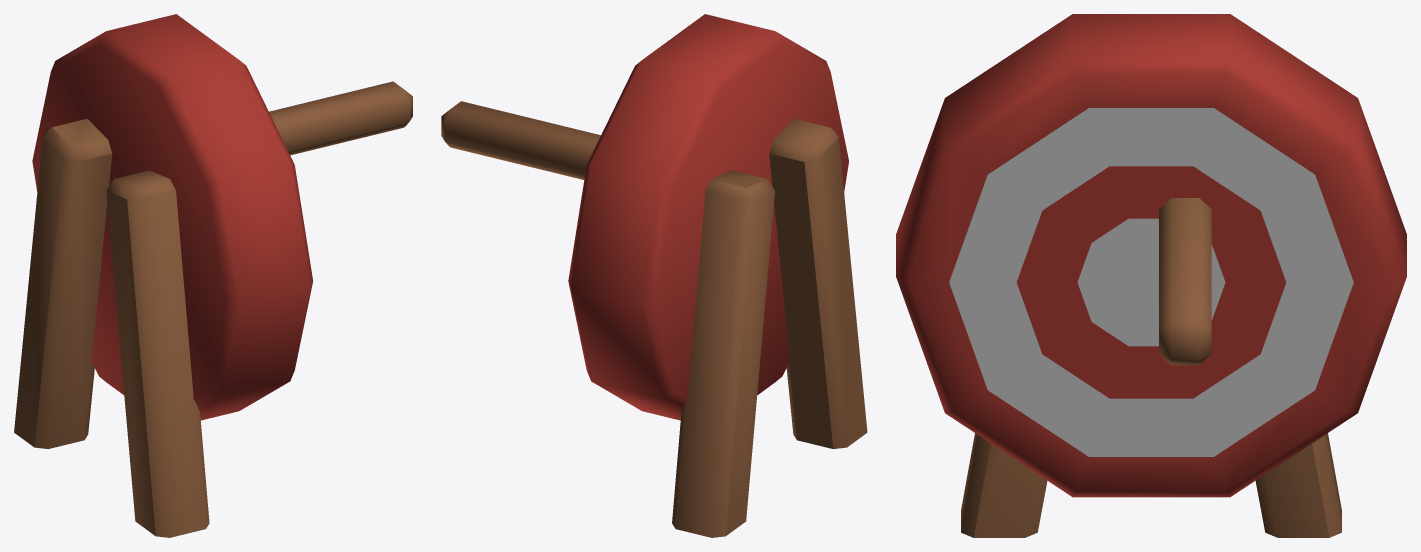
The model's file is Target-1.fbx.
3 views of the same model, side by side, from view 1: azimuth 30°, elevation 25°; view 2: azimuth 150°, elevation 25°; view 3: azimuth 270°, elevation 25° (orthographic). The views are drawn at different scales.
Parts seen in each view (by area): view 1: Cylinder.203, Cube.827, Cube.854; view 2: Cylinder.203, Cube.827, Cube.854; view 3: Cylinder.203, Cube.827, Cube.854.
Boxes of the visible parts, left/top/right/bottom form: Cylinder.203: left=32, top=14, right=312, bottom=420; Cube.827: left=14, top=118, right=209, bottom=537; Cube.854: left=269, top=81, right=412, bottom=155; Cylinder.203: left=568, top=14, right=848, bottom=420; Cube.827: left=672, top=118, right=867, bottom=537; Cube.854: left=441, top=101, right=600, bottom=179; Cylinder.203: left=896, top=14, right=1406, bottom=497; Cube.827: left=961, top=433, right=1341, bottom=537; Cube.854: left=1159, top=198, right=1211, bottom=365.
Size of the model in its own units: 26.78 by 31.78 by 28.1.
